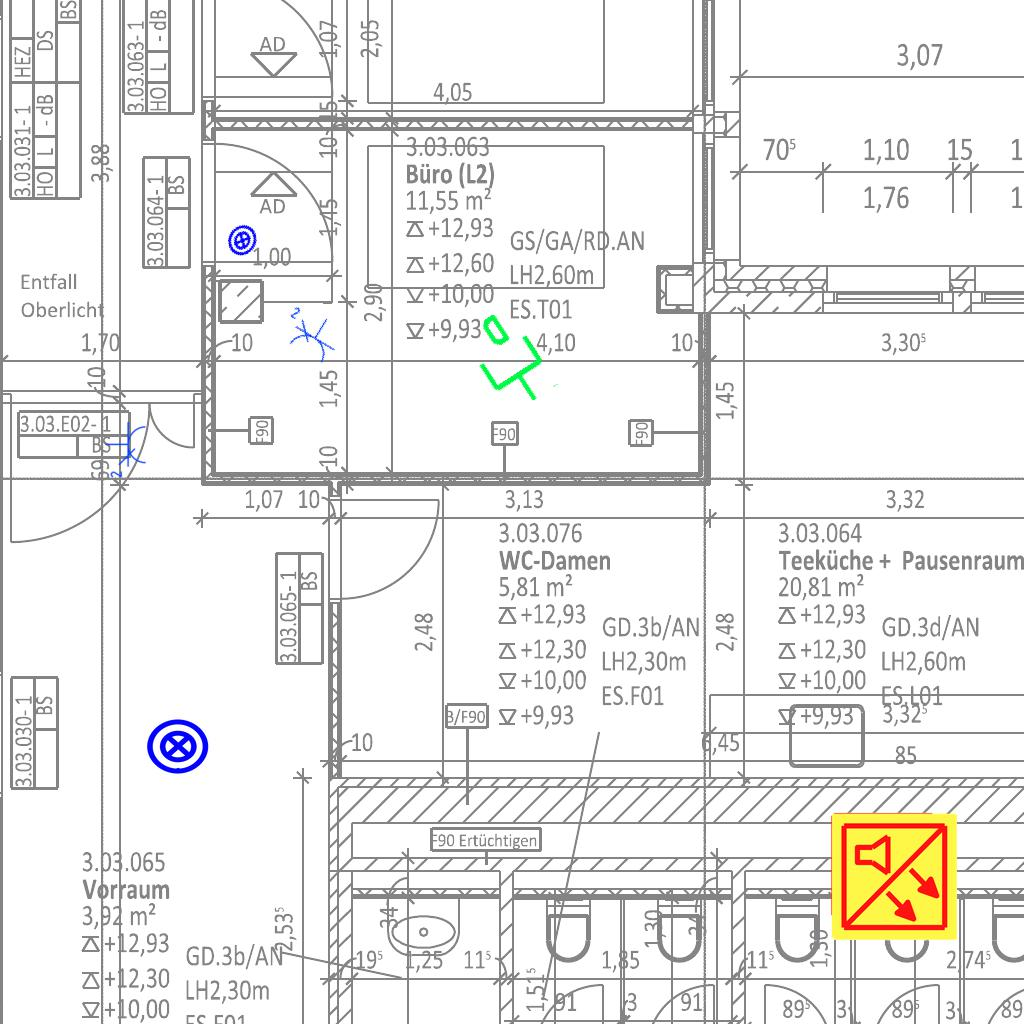Datenanschluss_einfach: (451, 300, 564, 422)
OKW_Multisensormelder_(Kombination_optischer_Rauch-Kahlenmonoxid_Waerme-Melder): (828, 811, 960, 943)
Schukosteckdose_mehrfach: (272, 299, 348, 369), (105, 421, 149, 481)
Taster_beleuchtet: (145, 713, 211, 779), (220, 218, 265, 263)
